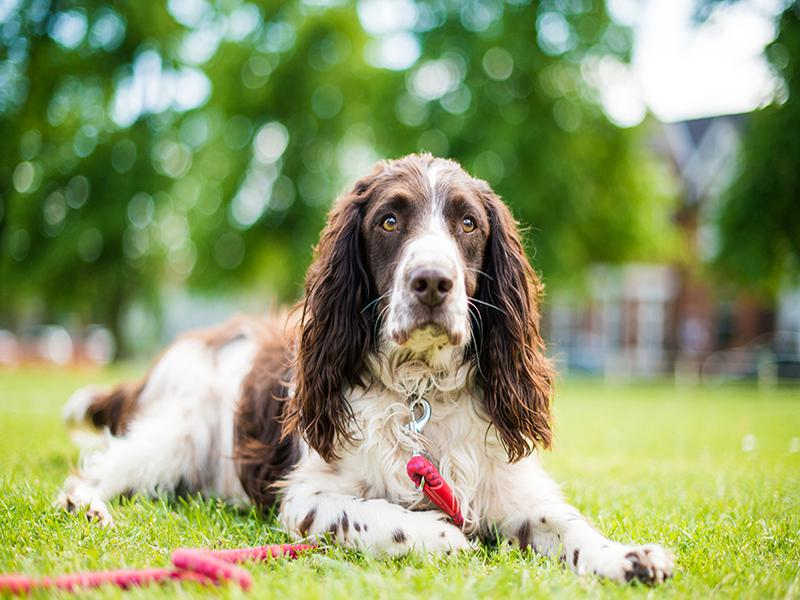dog_down: (59, 149, 679, 592)
